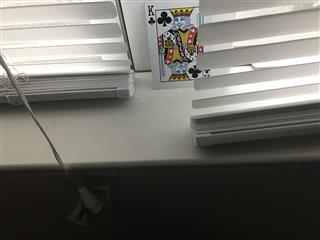KingOfClubs: (145, 1, 217, 90)
